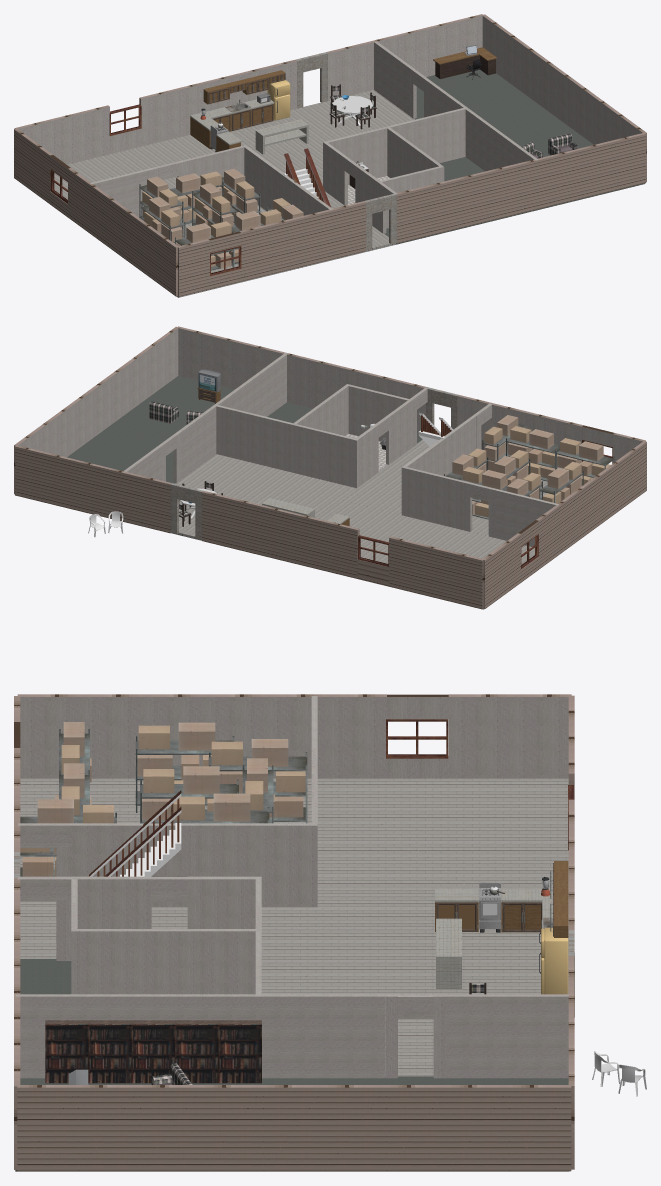
File: firstFloor.glb
3 renders of one model, top to bottom at view 1: azimuth 30°, elevation 25°; view 2: azimuth 150°, elevation 25°; view 3: azimuth 270°, elevation 25°, orthographic. The views are drawn at different scales.
Visible parts, largest first — view 1: 1floor_innerwalls-col.065, firstflor_floor-col, outerwalls-androof-col.097, outerwalls-androof-col.098, outerwalls-androof-col.104, outerwalls-androof-col.091, outerwalls-androof-col.095, outerwalls-androof-col.101, outerwalls-androof-col.102, outerwalls-androof-col.103, outerwalls-androof-col.107, outerwalls-androof-col.100 (+56 smaller); view 2: 1floor_innerwalls-col.065, firstflor_floor-col, Cube.053, outerwalls-androof-col.062, outerwalls-androof-col.066, outerwalls-androof-col.068, outerwalls-androof-col.064, outerwalls-androof-col.069, outerwalls-androof-col.071, outerwalls-androof-col.074, outerwalls-androof-col.063, outerwalls-androof-col.067 (+48 smaller); view 3: 1floor_innerwalls-col.065, firstflor_floor-col, Librero.057-col, outerwalls-androof-col.027, outerwalls-androof-col.021, outerwalls-androof-col.022, outerwalls-androof-col.024, outerwalls-androof-col.025, outerwalls-androof-col.026, outerwalls-androof-col.023, outerwalls-androof-col.028, outerwalls-androof-col.029 (+24 smaller).
Part boxes in pixels (box(x1,y1,x2,y2)): 1floor_innerwalls-col.065: box(90, 41, 538, 233); firstflor_floor-col: box(54, 69, 645, 297); outerwalls-androof-col.097: box(271, 216, 303, 273); outerwalls-androof-col.098: box(239, 224, 272, 281); outerwalls-androof-col.104: box(489, 163, 521, 220); outerwalls-androof-col.091: box(613, 132, 646, 190); outerwalls-androof-col.095: box(333, 201, 365, 258); outerwalls-androof-col.101: box(396, 186, 428, 243); outerwalls-androof-col.102: box(426, 178, 459, 235); outerwalls-androof-col.103: box(458, 170, 490, 228); outerwalls-androof-col.107: box(582, 140, 615, 197); outerwalls-androof-col.100: box(178, 239, 209, 296); 1floor_innerwalls-col.065: box(124, 353, 558, 546); firstflor_floor-col: box(67, 376, 547, 609); Cube.053: box(506, 426, 559, 481); outerwalls-androof-col.062: box(451, 551, 483, 609); outerwalls-androof-col.066: box(326, 521, 359, 578); outerwalls-androof-col.068: box(264, 506, 296, 563); outerwalls-androof-col.064: box(389, 536, 421, 594); outerwalls-androof-col.069: box(233, 498, 265, 555); outerwalls-androof-col.071: box(139, 475, 171, 533); outerwalls-androof-col.074: box(46, 453, 78, 510); outerwalls-androof-col.063: box(420, 544, 452, 601); outerwalls-androof-col.067: box(295, 513, 327, 571); 1floor_innerwalls-col.065: box(15, 696, 568, 1078); firstflor_floor-col: box(15, 778, 568, 1171); Librero.057-col: box(45, 1020, 261, 1083); outerwalls-androof-col.027: box(78, 1085, 140, 1171); outerwalls-androof-col.021: box(509, 1085, 571, 1171); outerwalls-androof-col.022: box(448, 1085, 509, 1171); outerwalls-androof-col.024: box(325, 1085, 386, 1171); outerwalls-androof-col.025: box(263, 1085, 324, 1171); outerwalls-androof-col.026: box(140, 1085, 201, 1171); outerwalls-androof-col.023: box(386, 1085, 447, 1171); outerwalls-androof-col.028: box(17, 1085, 78, 1171); outerwalls-androof-col.029: box(202, 1085, 263, 1171).
Size of what is drawn, in the model's own units: 30.22 by 6.09 by 20.57.
40 materials, 28 textured.
